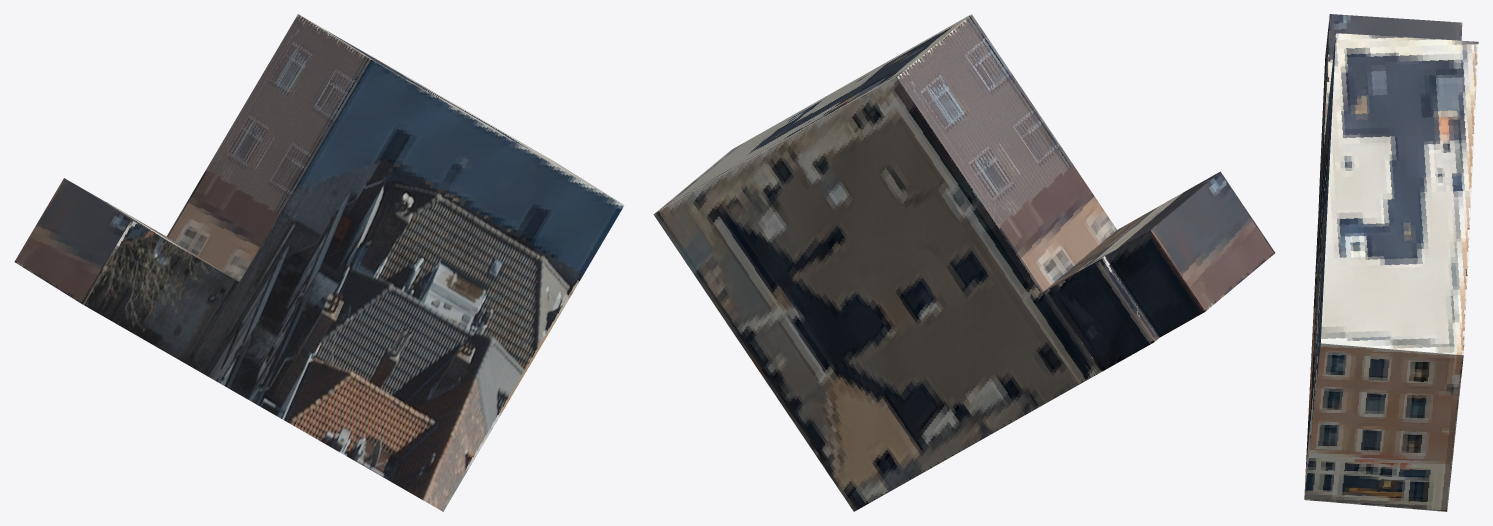
3 renders of one model, left to right at view 1: azimuth 30°, elevation 25°; view 2: azimuth 150°, elevation 25°; view 3: azimuth 270°, elevation 25°, orthographic. The views are drawn at different scales.
Visible parts, largest first — view 1: BAG_0599100000671694 (×4); view 2: BAG_0599100000671694 (×5); view 3: BAG_0599100000671694 (×4).
Boxes of the visible parts, x1=… form: BAG_0599100000671694 (×4): x1=14, y1=14, x2=624, y2=511; BAG_0599100000671694 (×5): x1=653, y1=14, x2=1275, y2=511; BAG_0599100000671694 (×4): x1=1304, y1=14, x2=1478, y2=511.
Bounding box in the file's own units: 27.11 × 22.15 × 7.77.
1 material, 1 textured.
